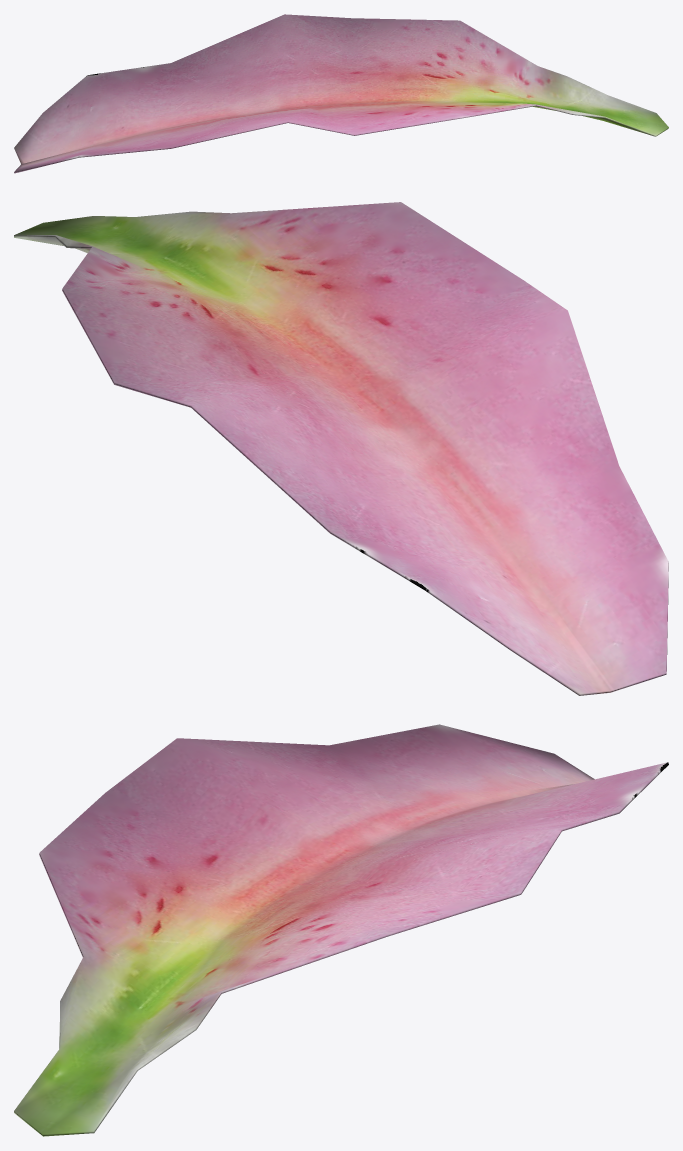
The model's file is Lily_PetalA_2.gltf.
The picture shows the model from 3 angles, top to bottom: view 1: azimuth 30°, elevation 25°; view 2: azimuth 150°, elevation 25°; view 3: azimuth 270°, elevation 25°; orthographic projection. The views are drawn at different scales.
Parts seen in each view (by area): view 1: PetalA.002; view 2: PetalA.002; view 3: PetalA.002.
Boxes of the visible parts, box(x1,y1,x2,y2) form: PetalA.002: box(14, 14, 668, 173); PetalA.002: box(14, 202, 668, 695); PetalA.002: box(14, 724, 668, 1136).
Size of the model in its own units: 3.84 by 0.7102 by 2.46.
Materials: 1 (1 with a texture image).
